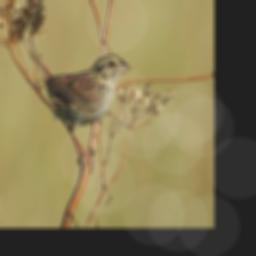Sparrow: (22, 41, 132, 173)
